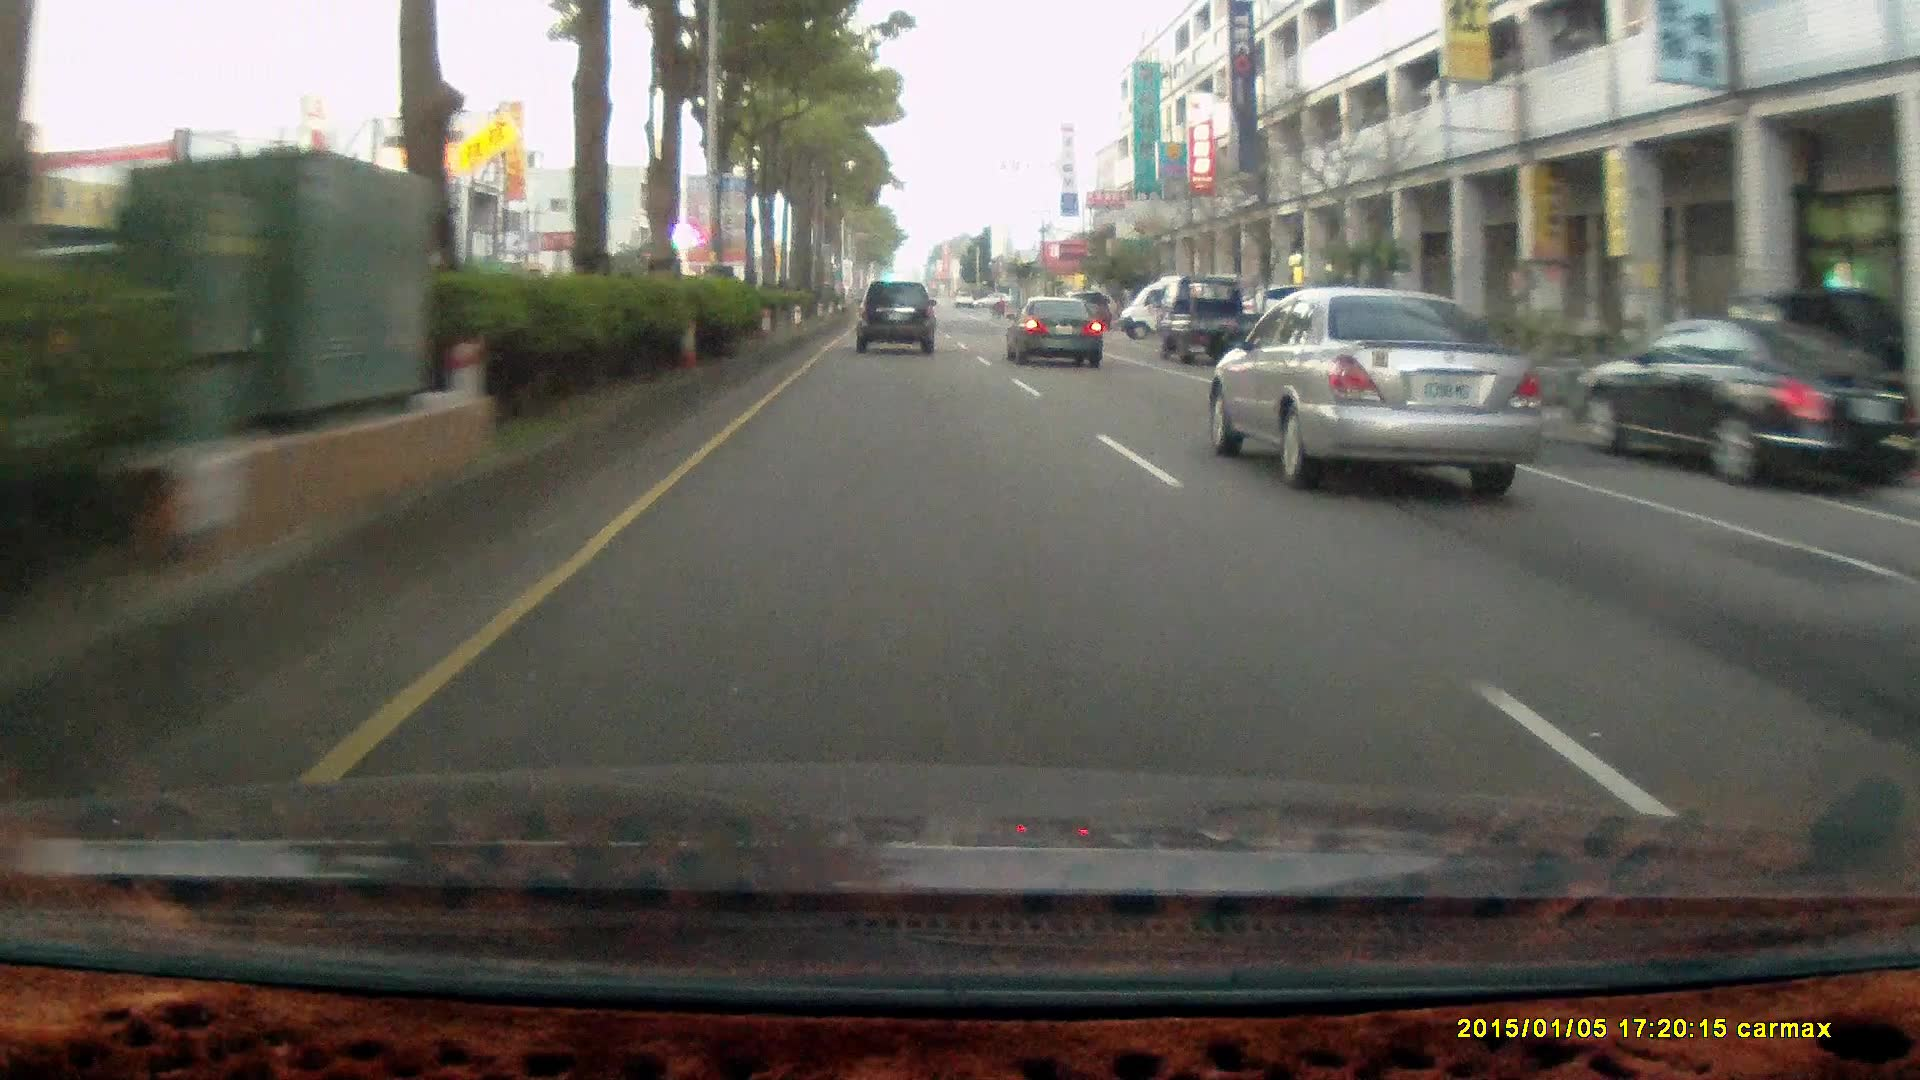vehicle: (1203, 287, 1538, 487), (1575, 306, 1920, 492), (1567, 313, 1920, 488), (1273, 302, 1422, 393), (1164, 277, 1273, 378), (1158, 276, 1262, 367), (1121, 270, 1244, 344), (1116, 272, 1240, 339), (1004, 298, 1106, 375), (1004, 294, 1100, 367), (856, 282, 938, 357), (855, 281, 938, 353)
